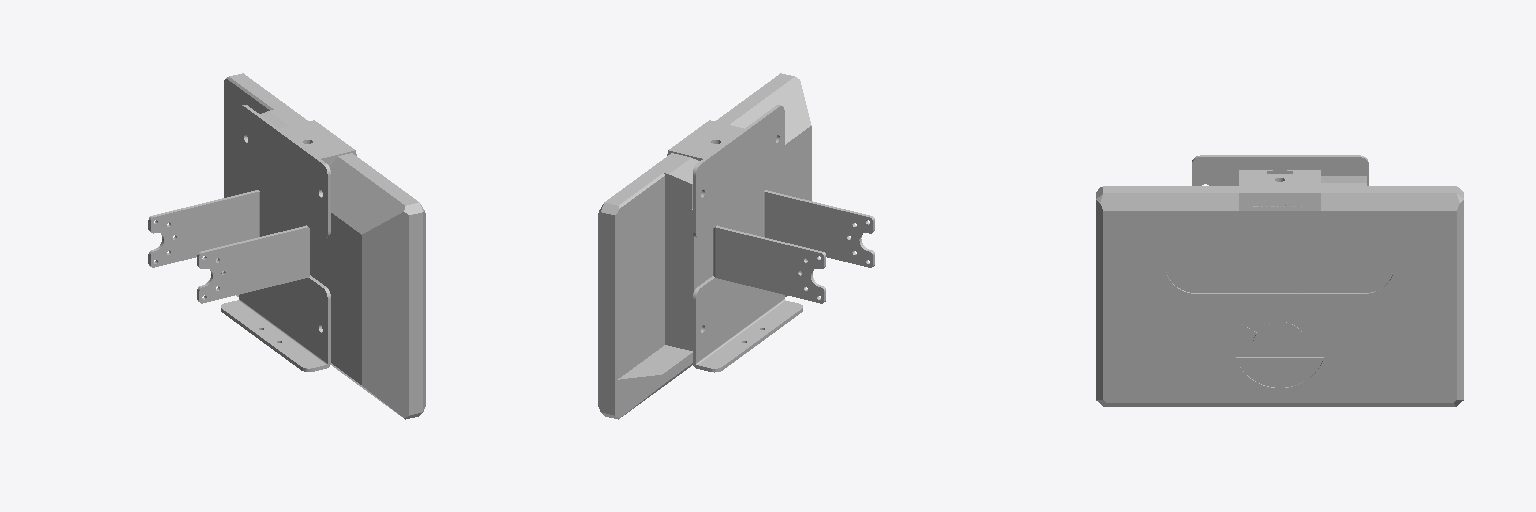
File: processed_touch_screen.obj
3 views of the same model, side by side, from view 1: azimuth 30°, elevation 25°; view 2: azimuth 150°, elevation 25°; view 3: azimuth 270°, elevation 25° (orthographic).
Parts seen in each view (by area): view 1: touch_screen; view 2: touch_screen; view 3: touch_screen.
Boxes of the visible parts, <box> form: touch_screen: <box>148,73,425,419</box>; touch_screen: <box>598,73,874,419</box>; touch_screen: <box>1096,155,1463,406</box>.
Size of the model in its own units: 0.0951 by 0.1264 by 0.185.